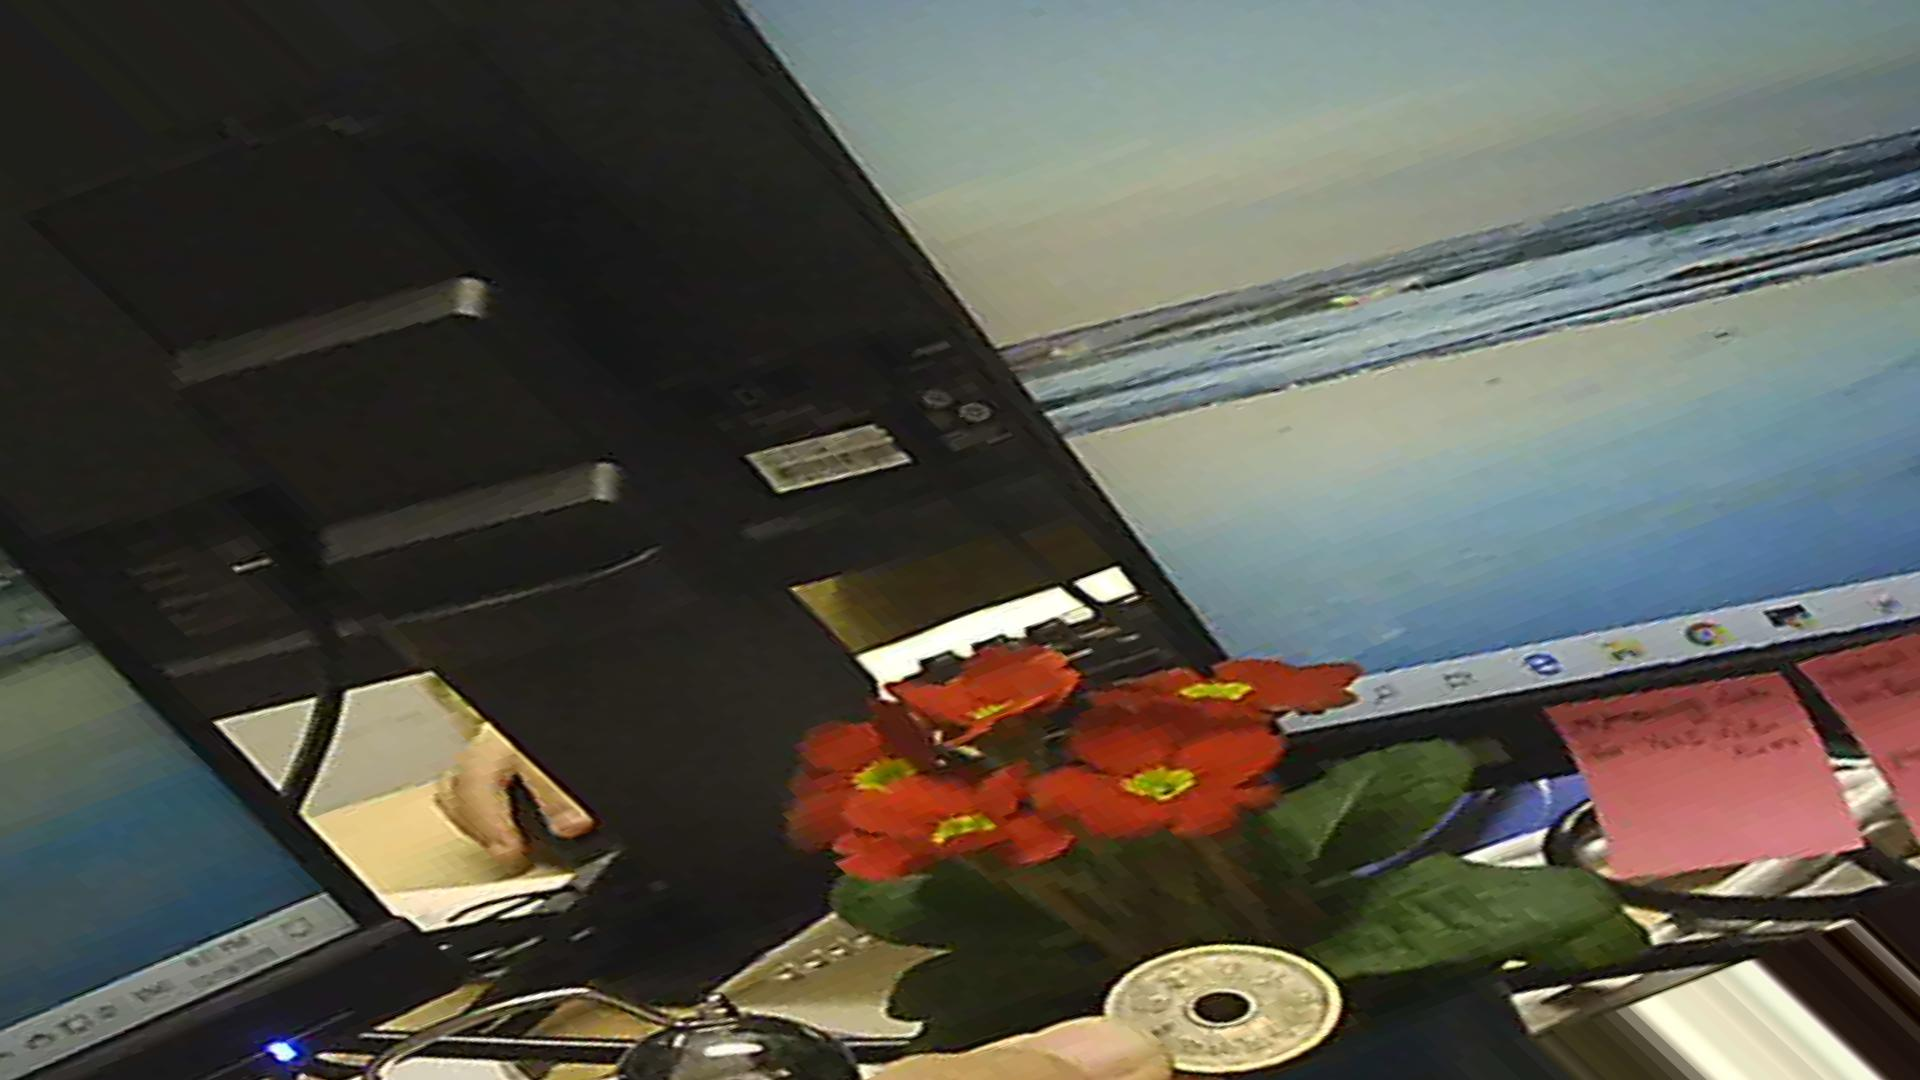5 Yen: (1105, 923, 1346, 1069)
